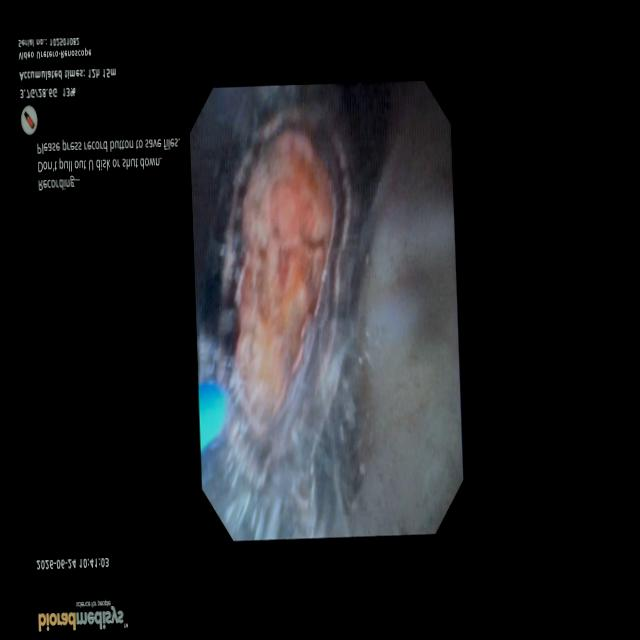stone-new: (197, 87, 373, 539)
